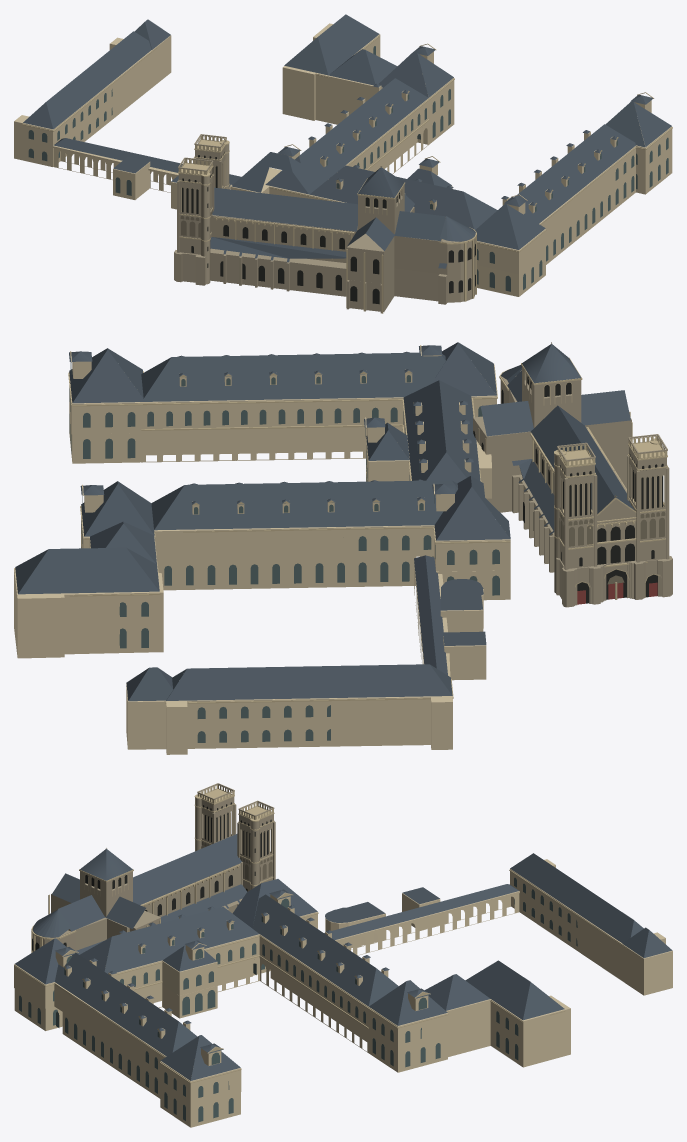
Rendered from abbaye-aux-dames-far.glb.
The picture shows the model from 3 angles, top to bottom: view 1: azimuth 30°, elevation 25°; view 2: azimuth 150°, elevation 25°; view 3: azimuth 270°, elevation 25°; orthographic projection. The views are drawn at different scales.
Parts seen in each view (by area): view 1: abbaye-aux-dames-0-roof, abbaye-aux-dames-0-weather, abbaye-aux-dames-0-stone, abbaye-aux-dames-0-trim, abbaye-aux-dames-0-glass, abbaye-aux-dames-0-recess; view 2: abbaye-aux-dames-0-roof, abbaye-aux-dames-0-weather, abbaye-aux-dames-0-stone, abbaye-aux-dames-0-glass, abbaye-aux-dames-0-trim, abbaye-aux-dames-0-recess, abbaye-aux-dames-0-iron; view 3: abbaye-aux-dames-0-roof, abbaye-aux-dames-0-weather, abbaye-aux-dames-0-stone, abbaye-aux-dames-0-glass, abbaye-aux-dames-0-trim, abbaye-aux-dames-0-recess.
Part boxes in pixels (box(x1,y1,x2,y2)): abbaye-aux-dames-0-roof: box(23, 14, 671, 268); abbaye-aux-dames-0-weather: box(14, 23, 672, 296); abbaye-aux-dames-0-stone: box(174, 134, 475, 313); abbaye-aux-dames-0-trim: box(22, 35, 672, 313); abbaye-aux-dames-0-glass: box(28, 46, 668, 291); abbaye-aux-dames-0-recess: box(182, 152, 475, 304); abbaye-aux-dames-0-roof: box(15, 342, 634, 701); abbaye-aux-dames-0-weather: box(14, 345, 510, 754); abbaye-aux-dames-0-stone: box(473, 367, 672, 607); abbaye-aux-dames-0-glass: box(69, 362, 499, 742); abbaye-aux-dames-0-trim: box(16, 346, 667, 703); abbaye-aux-dames-0-recess: box(473, 376, 663, 603); abbaye-aux-dames-0-iron: box(551, 342, 665, 584); abbaye-aux-dames-0-roof: box(15, 834, 672, 1080); abbaye-aux-dames-0-weather: box(14, 859, 672, 1127); abbaye-aux-dames-0-stone: box(32, 783, 275, 951); abbaye-aux-dames-0-glass: box(19, 877, 577, 1122); abbaye-aux-dames-0-trim: box(14, 784, 628, 1083); abbaye-aux-dames-0-recess: box(32, 802, 271, 951).
Size of the model in its own units: 153 by 35.95 by 181.
